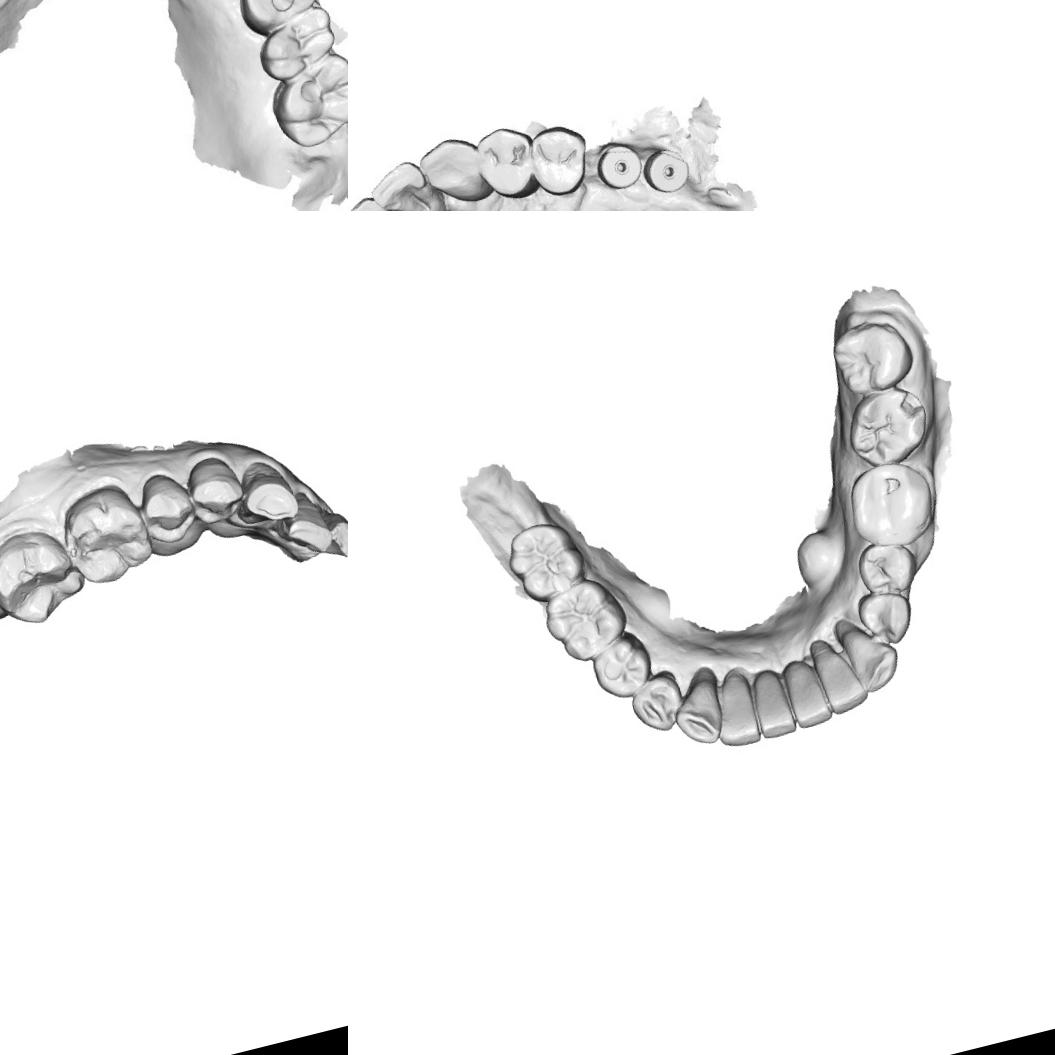canine: (416, 126, 492, 208), (839, 612, 905, 698), (228, 459, 300, 531), (665, 668, 726, 750)
implant: (592, 134, 647, 192), (642, 140, 694, 196)
incisor: (704, 672, 768, 753), (810, 640, 868, 718), (780, 654, 836, 730), (371, 155, 446, 211), (744, 666, 798, 742), (276, 500, 336, 560), (348, 187, 426, 211), (320, 507, 348, 561)
molar: (53, 473, 159, 590), (840, 452, 944, 554), (0, 518, 90, 634), (836, 380, 938, 472), (261, 51, 348, 155), (538, 573, 632, 668), (498, 513, 589, 607), (826, 310, 918, 398), (253, 5, 345, 88)
premolar: (472, 120, 547, 208), (526, 121, 595, 205), (584, 629, 660, 703), (134, 466, 201, 548), (181, 451, 246, 531), (853, 585, 917, 650), (623, 670, 685, 737), (853, 538, 921, 599), (226, 0, 329, 34)
